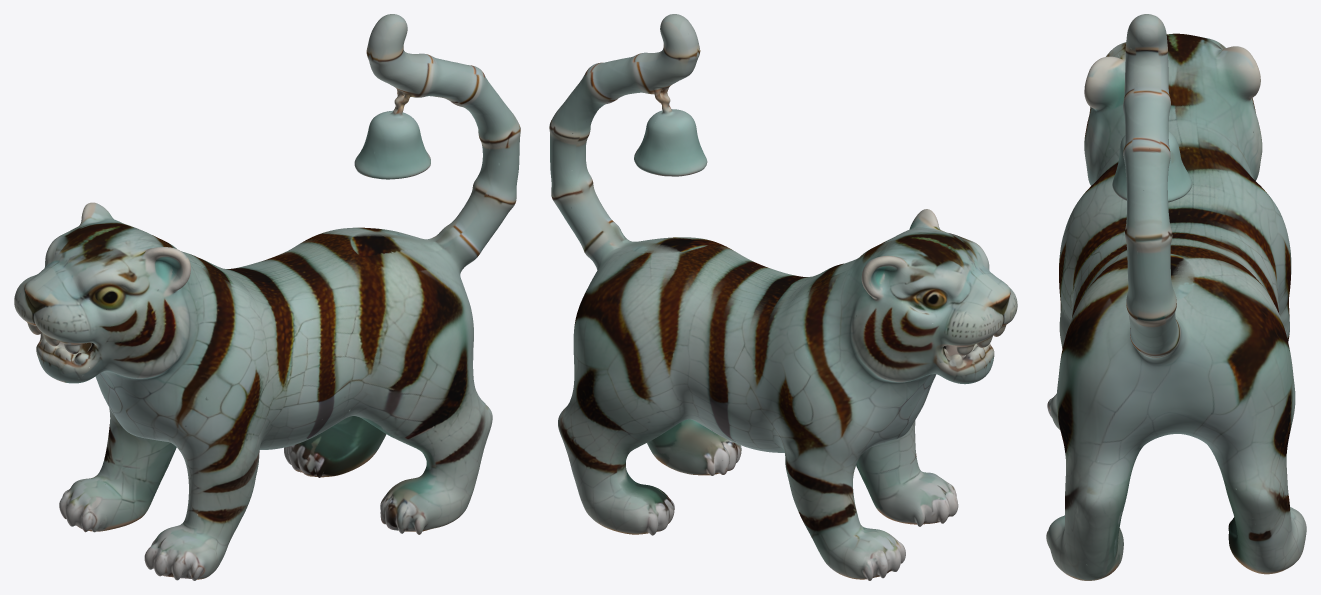
Rendered from 3d_demo_4.glb.
The picture shows the model from 3 angles, left to right: view 1: azimuth 30°, elevation 25°; view 2: azimuth 150°, elevation 25°; view 3: azimuth 270°, elevation 25°; orthographic projection. The views are drawn at different scales.
Parts seen in each view (by area): view 1: texture_v128_online.001; view 2: texture_v128_online.001; view 3: texture_v128_online.001.
Part boxes in pixels (<box>): texture_v128_online.001: <box>14,14,520,580</box>; texture_v128_online.001: <box>549,14,1017,580</box>; texture_v128_online.001: <box>1046,14,1306,580</box>.
Bounding box in the file's own units: 2 × 1.94 × 0.8378.
1 material, 1 textured.
